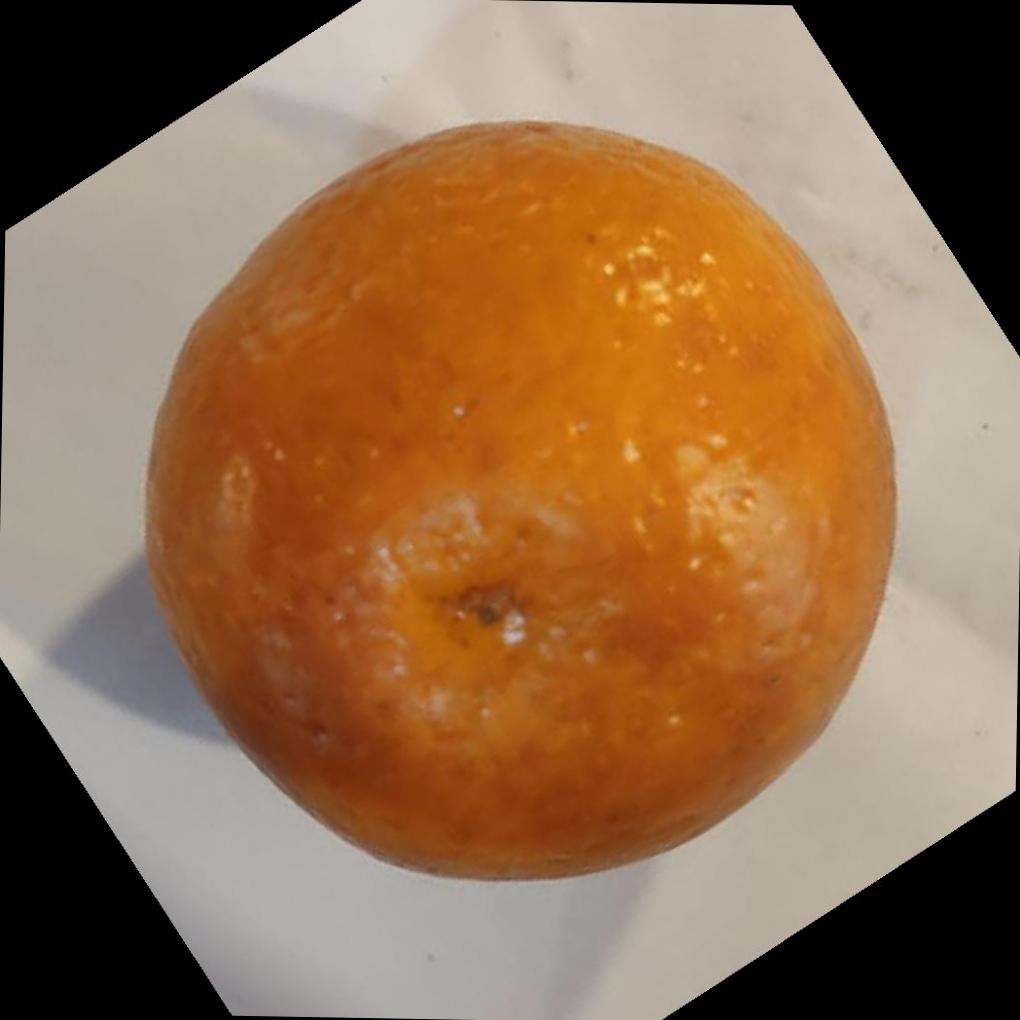FreshOrange: (141, 121, 898, 887)
